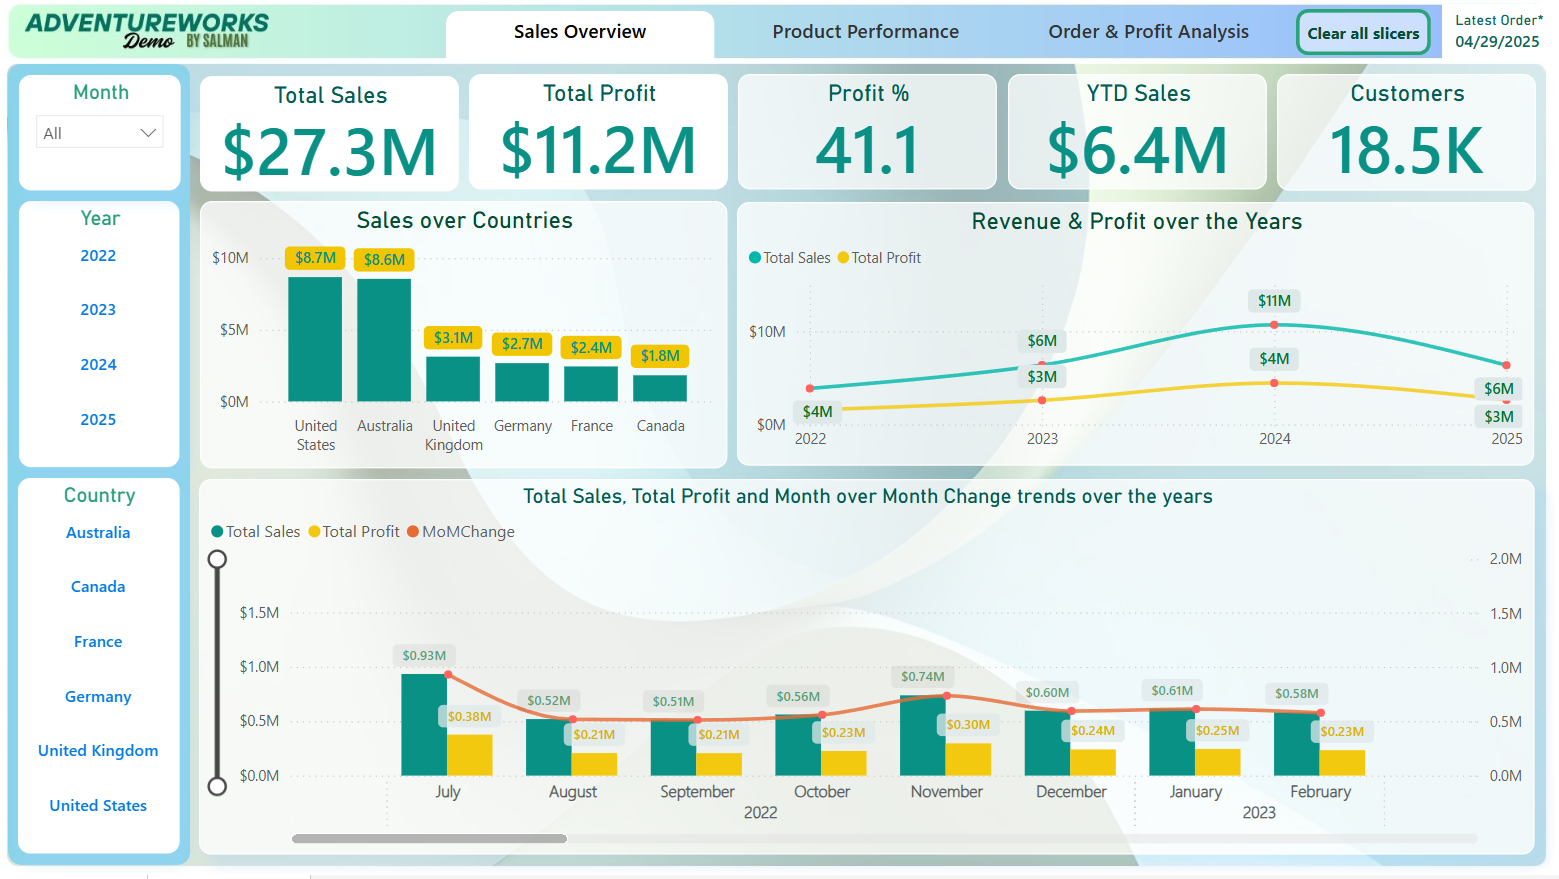

This screenshot's page, from the dashboard's own definition file:
{"tool":"powerbi","page":{"name":"Sales Overview ","canvas":[1280,720],"ordinal":0},"visuals":[{"type":"shape","box":[7.4,53.8,150.4,659],"z":0,"group":"g1"},{"type":"card","title":"YTD Sales","fields":{"Values":["_Mesures.YTD Sales"]},"box":[830.2,62.1,213,94.9],"z":0},{"type":"actionButton","title":"SalesOverviewButton","box":[368.2,10,221,40],"z":1000},{"type":"card","title":"Total Sales","fields":{"Values":["_Mesures.Total Sales"]},"box":[165,63,213,94.9],"z":1000},{"type":"advancedSlicerVisual","title":"Year","fields":{"Values":["DimDate.CalendarYear"]},"box":[16.3,166.5,131.7,218.9],"z":1000,"group":"g1"},{"type":"card","title":"Profit %","fields":{"Values":["_Mesures.Profit%"]},"box":[608.5,62.1,213,94.9],"z":2000},{"type":"slicer","title":"Month","fields":{"Values":["DimDate.EnglishMonthName"]},"box":[16.1,62.5,133.2,95],"z":2000,"group":"g1"},{"type":"actionButton","title":"OnP Button","box":[836.4,10,220.2,40],"z":3000},{"type":"card","title":"Total Profit","fields":{"Values":["_Mesures.Total Discount"]},"box":[386.8,62.1,213,94.9],"z":3000},{"type":"advancedSlicerVisual","title":"Country","fields":{"Values":["DimCustomer.EnglishCountryRegionName"]},"box":[15.8,394.5,132.7,309.1],"z":3000,"group":"g1"},{"type":"lineClusteredColumnComboChart","title":"Total Sales, Total Profit and Month over Month Change trends over the years","fields":{"Y":["_Mesures.Total Sales","_Mesures.Total Profit"],"Category":["DimDate.CalendarYear","DimDate.EnglishMonthName"],"Y2":["_Mesures.MoMChange"]},"box":[164.9,394.6,1098.6,309.5],"z":4000},{"type":"actionButton","title":"PP Button","box":[603.3,10,220.2,40],"z":5000},{"type":"card","title":"Customers","fields":{"Values":["_Mesures.Customers"]},"box":[1052,62,213,95.8],"z":5000},{"type":"actionButton","title":"Slicer Button","box":[1067,7,111,38],"z":6000},{"type":"lineChart","title":"Revenue & Profit over the Years","fields":{"Category":["DimDate.CalendarYear"],"Y":["_Mesures.Total Sales","_Mesures.Total Profit"]},"box":[607,166.7,656.2,217.2],"z":6000},{"type":"clusteredColumnChart","title":"Sales over Countries","fields":{"Category":["DimCustomer.EnglishCountryRegionName"],"Y":["_Mesures.Total Sales"]},"box":[165,165.8,433.6,219.9],"z":7000},{"type":"group","id":"g1","title":"Group 1","box":[7.4,53.8,150.4,659],"z":9000},{"type":"card","title":"Latest Order*","fields":{"Values":["_Mesures.MaxDate"]},"box":[1187,4,93,45],"z":13000}]}

Visuals, with their boxes in screenshot pixels (x1, y1, x2, y2), scaled from the page's 1280x720 canvas onto the 1559x879 screenshot:
shape: locate(9, 66, 192, 870)
"YTD Sales" card: locate(1011, 76, 1271, 192)
"SalesOverviewButton" actionButton: locate(448, 12, 718, 61)
"Total Sales" card: locate(201, 77, 460, 193)
"Year" advancedSlicerVisual: locate(20, 203, 180, 471)
"Profit %" card: locate(741, 76, 1001, 192)
"Month" slicer: locate(20, 76, 182, 192)
"OnP Button" actionButton: locate(1019, 12, 1287, 61)
"Total Profit" card: locate(471, 76, 731, 192)
"Country" advancedSlicerVisual: locate(19, 482, 181, 859)
"Total Sales, Total Profit and Month over Month Change trends over the years" lineClusteredColumnComboChart: locate(201, 482, 1539, 860)
"PP Button" actionButton: locate(735, 12, 1003, 61)
"Customers" card: locate(1281, 76, 1541, 193)
"Slicer Button" actionButton: locate(1300, 9, 1435, 55)
"Revenue & Profit over the Years" lineChart: locate(739, 204, 1539, 469)
"Sales over Countries" clusteredColumnChart: locate(201, 202, 729, 471)
"Group 1" group: locate(9, 66, 192, 870)
"Latest Order*" card: locate(1446, 5, 1558, 60)
